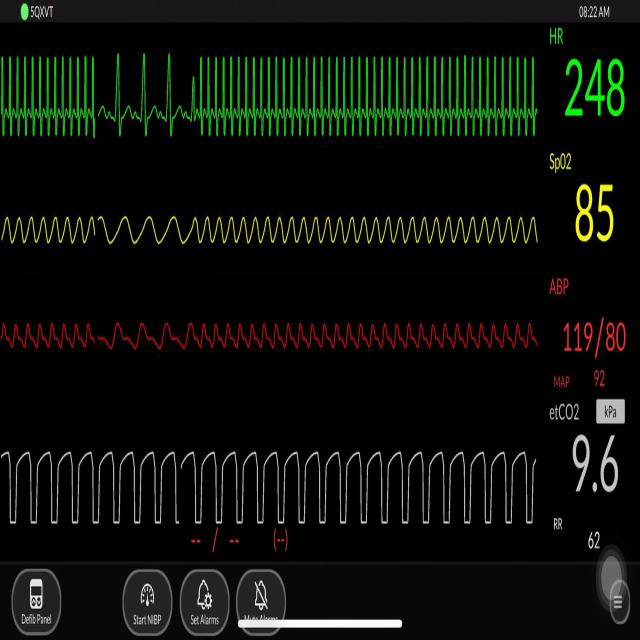danger: (190, 36, 543, 155), (7, 47, 103, 155)
